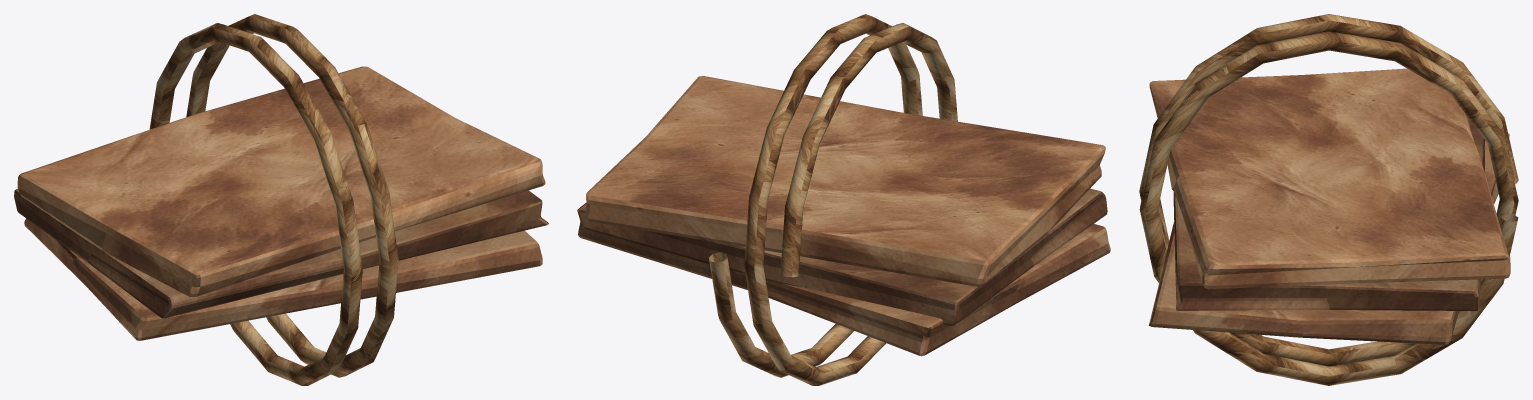
The model's file is leather.glb.
3 views of the same model, side by side, from view 1: azimuth 30°, elevation 25°; view 2: azimuth 150°, elevation 25°; view 3: azimuth 270°, elevation 25° (orthographic).
Visible parts, largest first — view 1: model; view 2: model; view 3: model.
Boxes of the visible parts, bbox=[...] form: model: bbox=[14, 14, 548, 385]; model: bbox=[577, 14, 1110, 385]; model: bbox=[1139, 14, 1518, 385].
Size of the model in its own units: 0.3472 by 0.2739 by 0.2738.
Materials: 4 (4 with a texture image).
